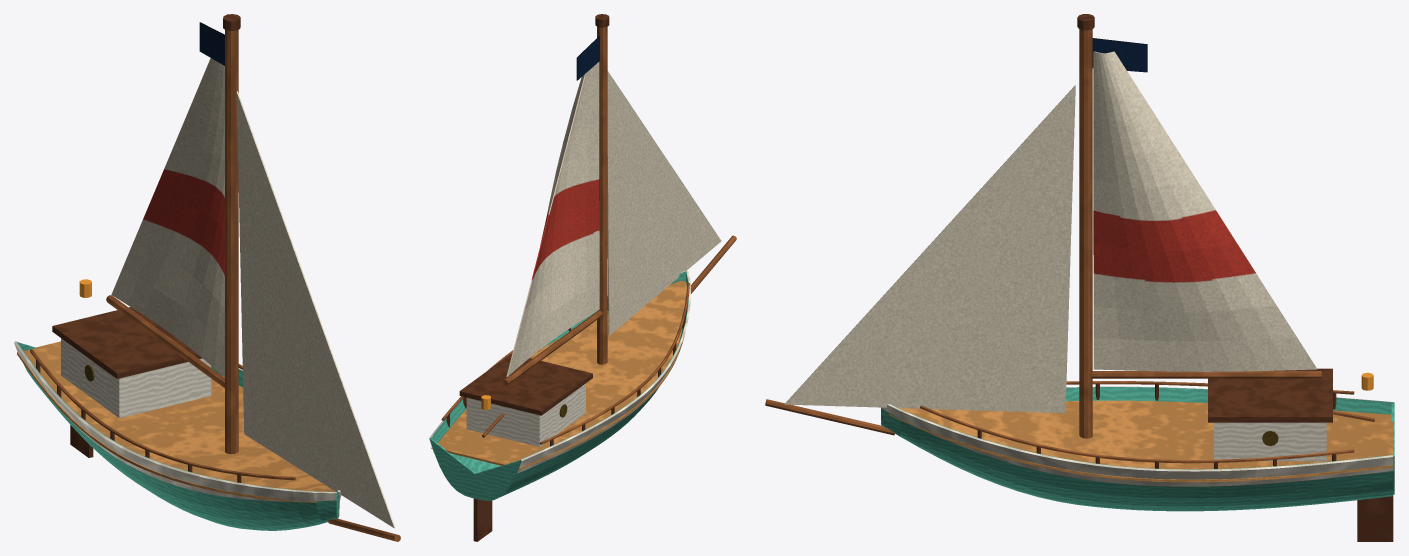
File: tidebreakers_coastal_sloop.glb
3 views of the same model, side by side, from view 1: azimuth 30°, elevation 25°; view 2: azimuth 150°, elevation 25°; view 3: azimuth 270°, elevation 25° (orthographic). The views are drawn at different scales.
Visible parts, largest first — view 1: tidebreakers_coastal_sloop_mesh; view 2: tidebreakers_coastal_sloop_mesh; view 3: tidebreakers_coastal_sloop_mesh.
Boxes of the visible parts, x1,y1,x2,y2 form: tidebreakers_coastal_sloop_mesh: (14,14,400,541); tidebreakers_coastal_sloop_mesh: (429,14,736,541); tidebreakers_coastal_sloop_mesh: (765,14,1394,541).
Size of the model in its own units: 3.87 by 11.28 by 12.3.
Materials: 1 (1 with a texture image).
